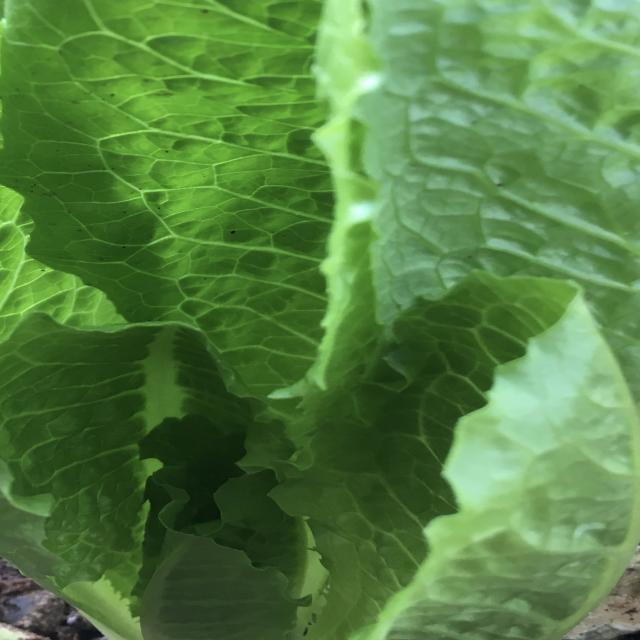Healthy Lettuce: (362, 278, 636, 638)
